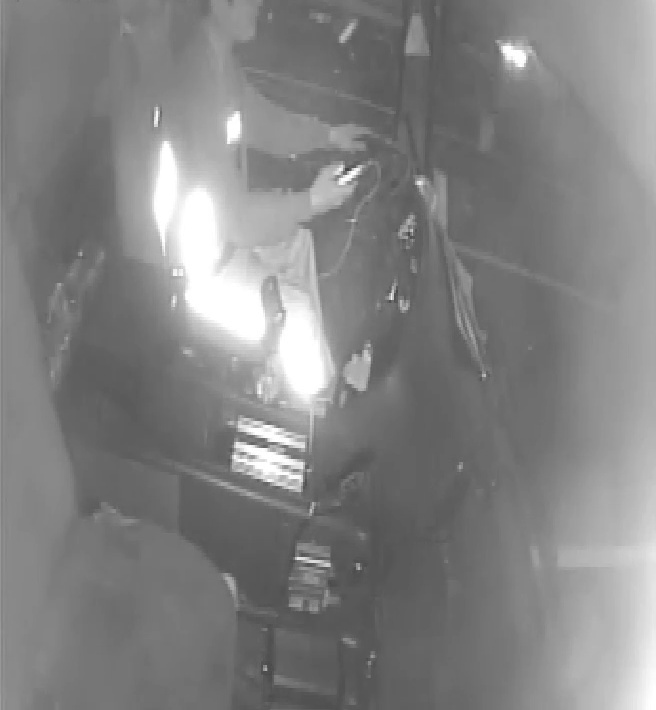cellphone: (315, 160, 372, 189)
